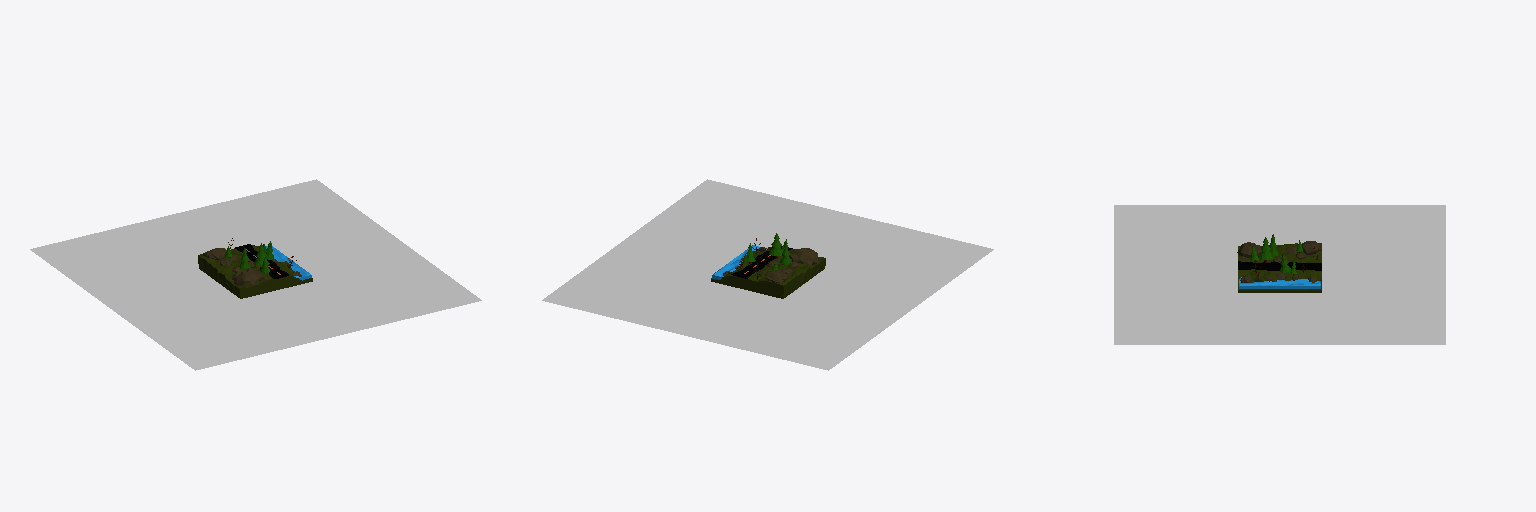
Rendered from uploads_files_3707747_landscape.obj.
3 renders of one model, left to right at view 1: azimuth 30°, elevation 25°; view 2: azimuth 150°, elevation 25°; view 3: azimuth 270°, elevation 25°, orthographic.
Parts seen in each view (by area): view 1: Plane, Terrain; view 2: Plane, Terrain; view 3: Plane, Terrain, Cube, Road.
Part boxes in pixels (bbox=[...]): Plane: bbox=[30, 179, 481, 370]; Terrain: bbox=[198, 245, 312, 298]; Plane: bbox=[542, 179, 993, 370]; Terrain: bbox=[711, 246, 825, 298]; Plane: bbox=[1114, 205, 1445, 344]; Terrain: bbox=[1238, 243, 1321, 292]; Cube: bbox=[1239, 277, 1320, 288]; Road: bbox=[1238, 261, 1321, 270].
Bounding box in the file's own units: 31.63 × 4 × 31.63.